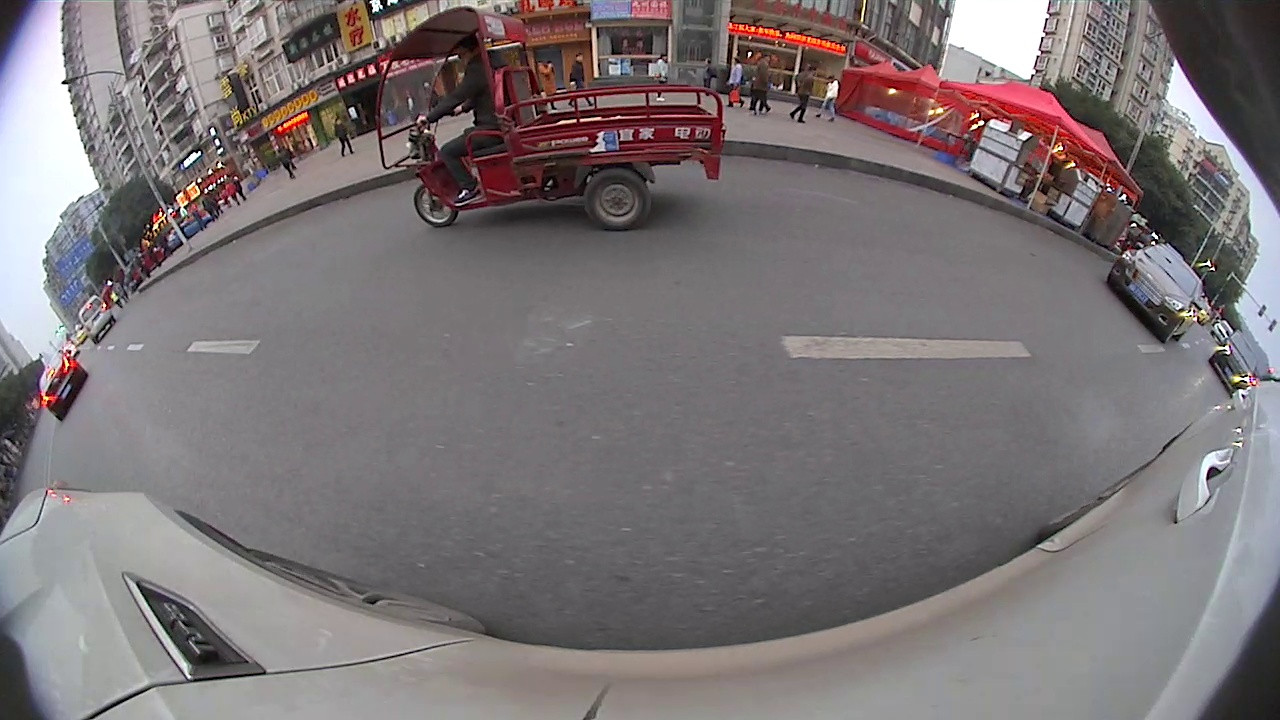car: (1106, 240, 1207, 344), (36, 348, 91, 421), (1211, 327, 1264, 394), (75, 292, 118, 341)
front: (408, 179, 462, 228)
person: (752, 51, 775, 117), (796, 62, 818, 122), (568, 49, 587, 107), (539, 58, 560, 108), (654, 50, 671, 103), (824, 72, 841, 123), (331, 115, 350, 157)
rear: (578, 164, 652, 235)
rider: (375, 4, 729, 225)
